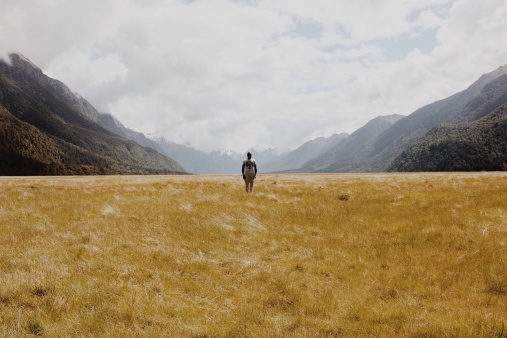em pe: (241, 146, 258, 196)
